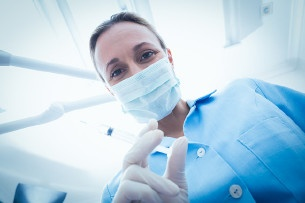Mask: (103, 46, 178, 121)
